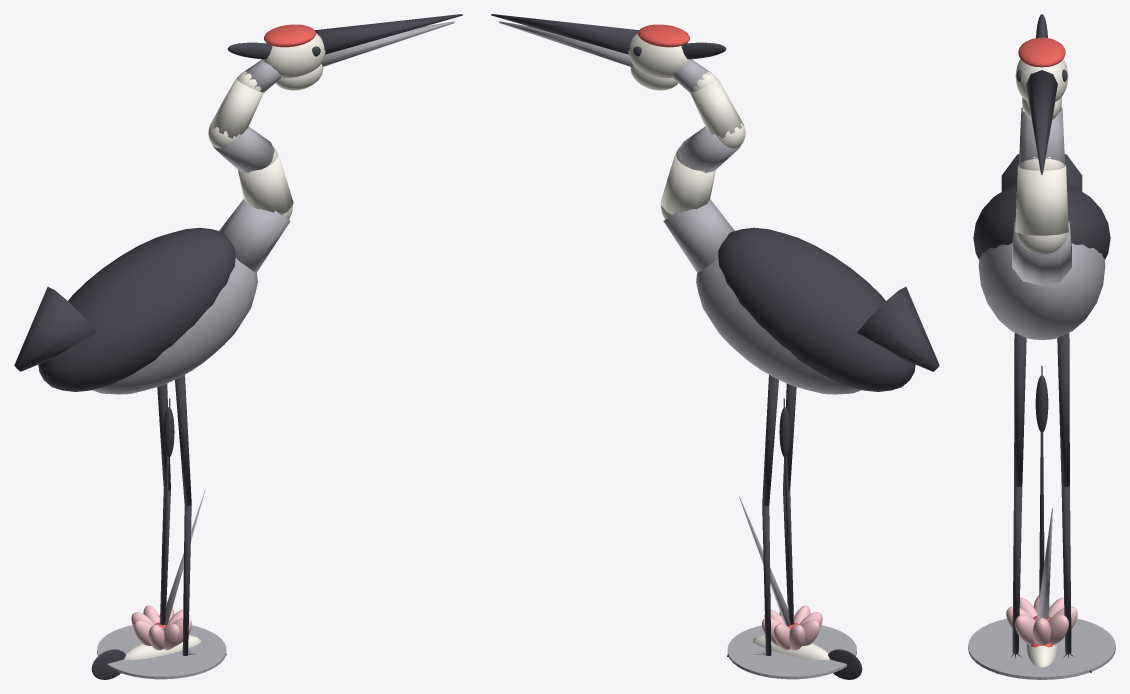
3 views of the same model, side by side, from view 1: azimuth 30°, elevation 25°; view 2: azimuth 150°, elevation 25°; view 3: azimuth 270°, elevation 25° (orthographic). The views are drawn at different scales.
Parts seen in each view (by area): view 1: hWing, hBody, pDisc, hTail, nk0, bTop, nk1, nk3, nk2, hHead, hLegU-1, bBot (+6 smaller); view 2: hWing, hBody, pDisc, hTail, nk0, bTop, nk1, nk3, nk2, hHead, hLegU1, bBot (+6 smaller); view 3: hBody, pDisc, hWing, nk1, nk0, bTop, hLegU-1, hLegU1, nk2, hLegD-1, hLegD1, hCap (+11 smaller).
Part boxes in pixels (x1,y1,x2,y2): hWing: (38, 227, 235, 391); hBody: (92, 258, 257, 394); pDisc: (97, 625, 226, 679); hTail: (14, 287, 96, 371); nk0: (219, 199, 290, 272); bTop: (315, 14, 462, 54); nk1: (238, 149, 293, 214); nk3: (210, 78, 263, 138); nk2: (212, 126, 274, 173); hHead: (262, 33, 325, 78); hLegU-1: (175, 375, 191, 506); bBot: (321, 21, 454, 66); hWing: (718, 227, 915, 391); hBody: (696, 258, 861, 394); pDisc: (727, 625, 856, 679); hTail: (857, 287, 939, 371); nk0: (663, 199, 734, 272); bTop: (491, 14, 638, 54); nk1: (660, 149, 715, 214); nk3: (690, 78, 743, 138); nk2: (679, 126, 741, 173); hHead: (628, 33, 691, 78); hLegU1: (762, 375, 778, 506); bBot: (499, 21, 632, 66); hBody: (978, 243, 1105, 339); pDisc: (968, 618, 1115, 679); hWing: (973, 185, 1110, 259); nk1: (1015, 164, 1068, 235); nk0: (1012, 221, 1071, 286); bTop: (1026, 70, 1057, 173); hLegU-1: (1014, 333, 1026, 486); hLegU1: (1057, 333, 1069, 486); nk2: (1019, 107, 1064, 165); hLegD-1: (1012, 486, 1022, 653); hLegD1: (1061, 486, 1071, 653); hCap: (1018, 37, 1065, 67).
Size of the model in its own units: 11.16 by 14.45 by 2.8.
